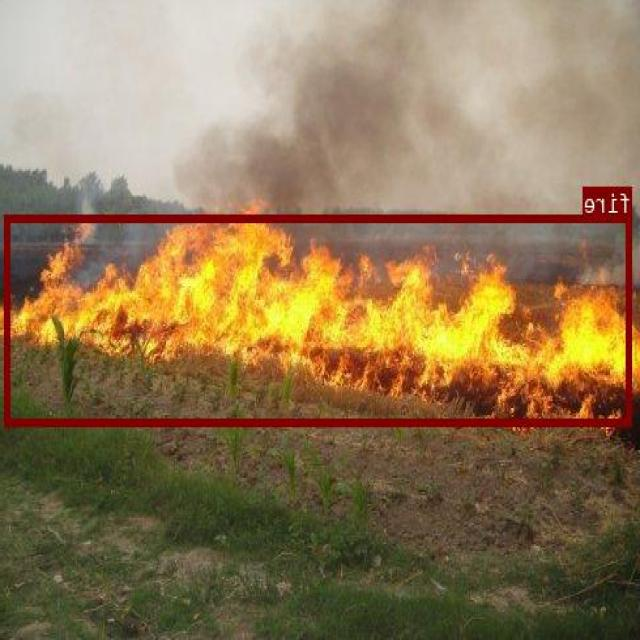fire: (6, 214, 632, 425)
